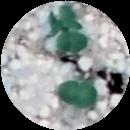Basil: (57, 76, 101, 109), (47, 6, 80, 31), (58, 28, 88, 53)
